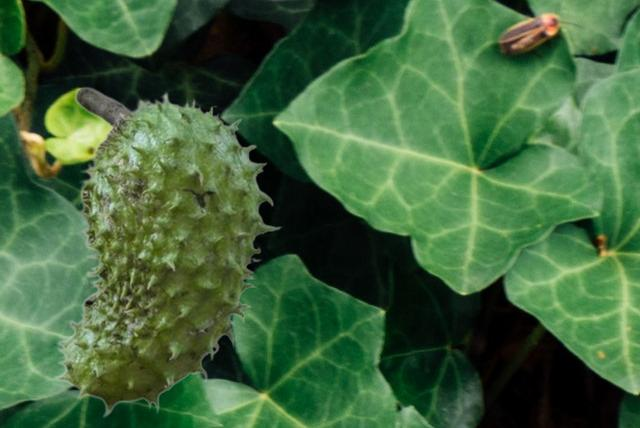guyabano: (53, 86, 281, 417)
